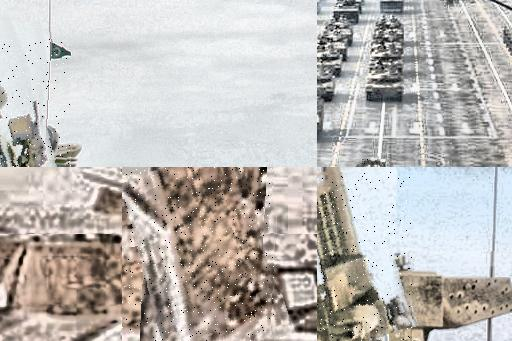tanks: (123, 168, 274, 341), (318, 174, 412, 341), (318, 20, 354, 78), (366, 70, 402, 103), (318, 67, 335, 101)
